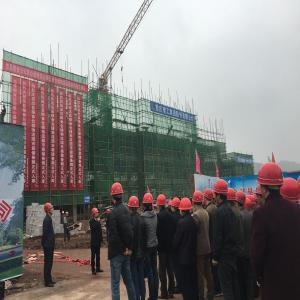red: (258, 163, 284, 194), (214, 181, 229, 204), (111, 182, 124, 203), (180, 198, 193, 216), (193, 190, 204, 209), (236, 191, 247, 208), (256, 186, 265, 206), (157, 195, 168, 211), (204, 190, 214, 207), (129, 197, 140, 212), (144, 194, 154, 210), (227, 189, 236, 206), (45, 203, 54, 217), (172, 198, 181, 212), (93, 209, 100, 219), (107, 210, 111, 217)
yellow: (66, 212, 69, 218), (63, 212, 65, 216)
